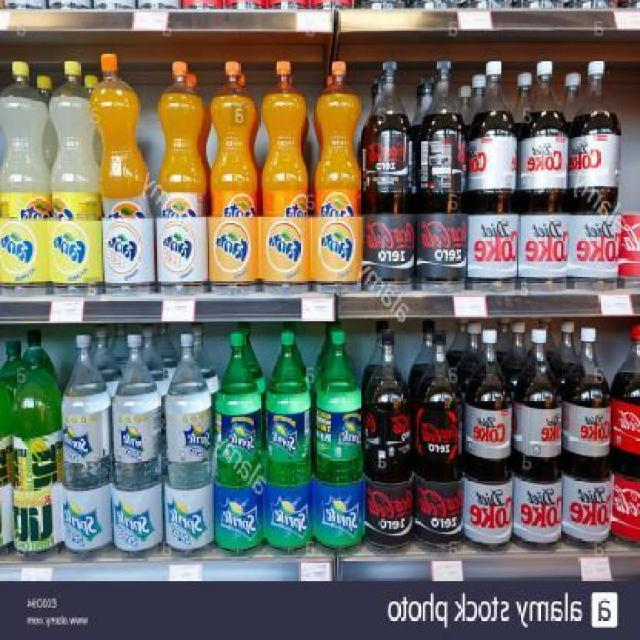Drinks: (93, 53, 156, 287), (567, 59, 621, 293), (49, 61, 103, 287), (466, 60, 518, 294), (414, 60, 466, 294), (361, 60, 413, 294), (61, 333, 112, 562), (111, 334, 162, 563), (519, 59, 568, 293), (260, 59, 308, 296), (313, 60, 361, 294), (209, 62, 257, 296), (159, 60, 207, 294), (313, 330, 362, 559), (262, 330, 311, 559), (212, 330, 261, 559), (161, 331, 210, 560), (562, 326, 611, 554), (464, 330, 513, 558), (413, 332, 462, 560), (363, 330, 412, 558), (514, 328, 563, 554), (1, 61, 47, 284)
